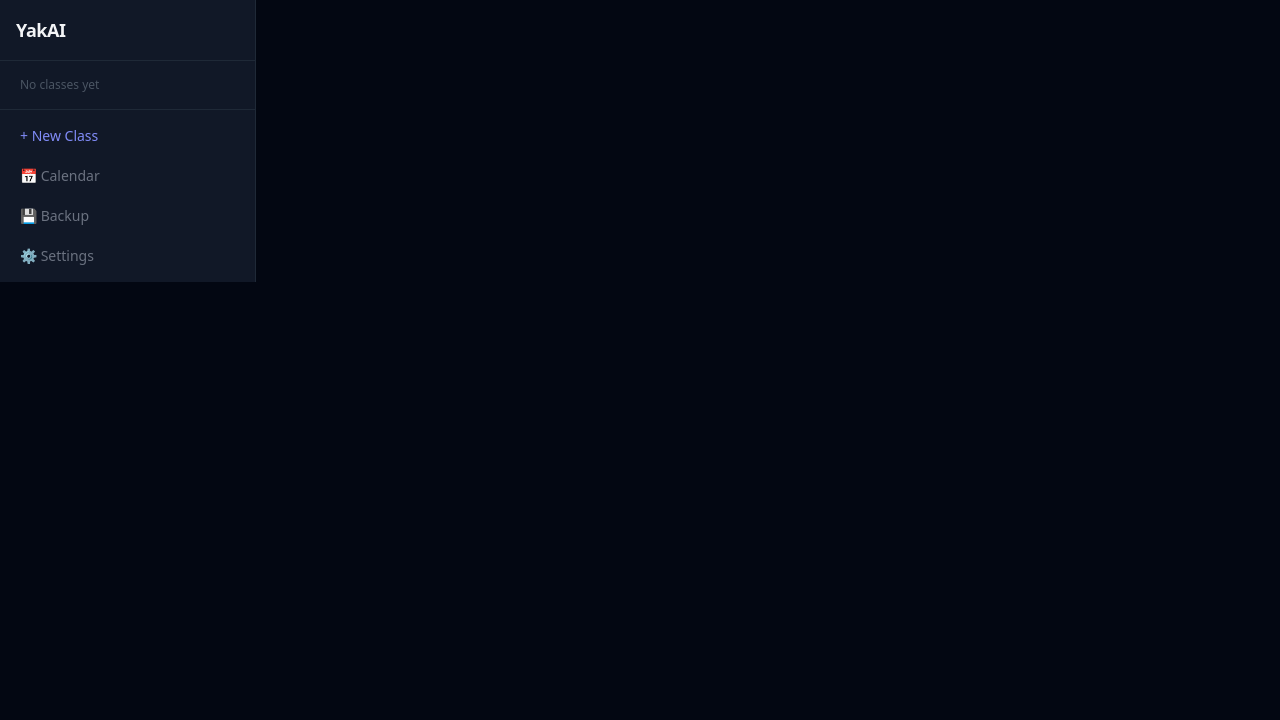
it: Sidebar › clicking New Class opens modal
Click the button "+ New Class" at (128, 136), box [8,118,247,154]
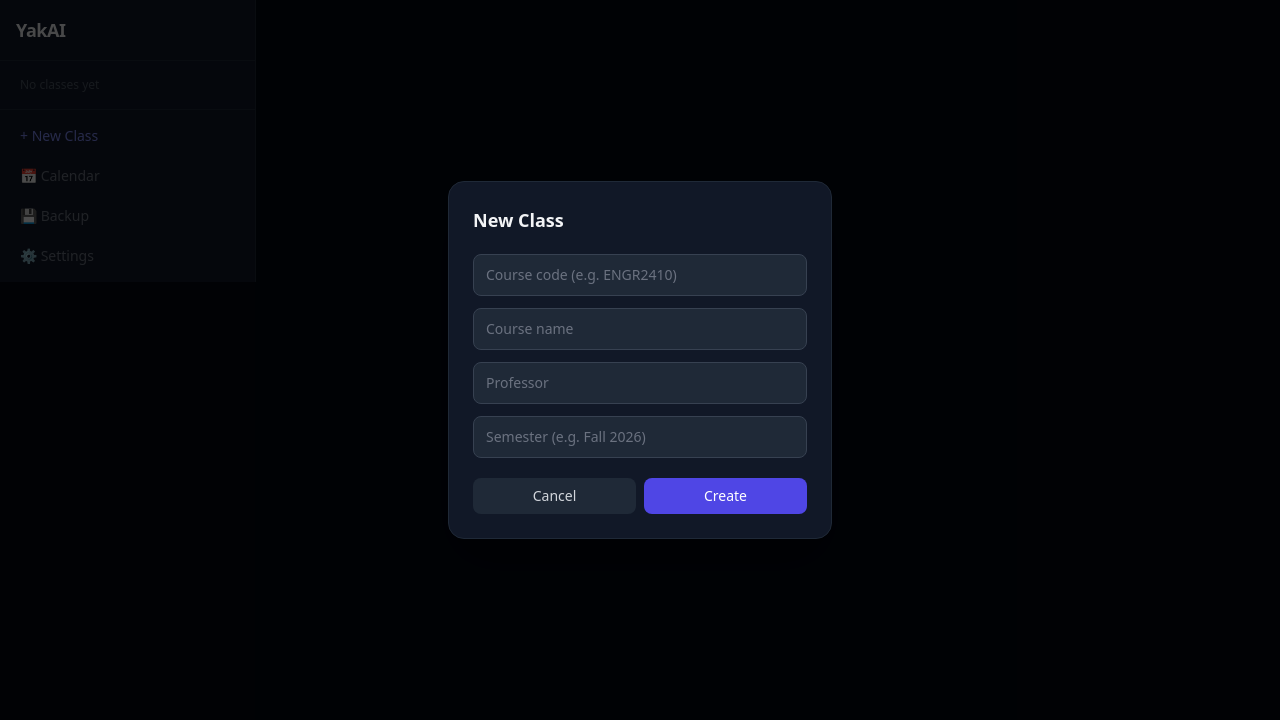
expect the heading "New Class" is shown: met, box [473,208,564,232]
expect the field with placeholder "Course code (e.g. ENGR2410)" is shown: met, box [473,254,807,296]
